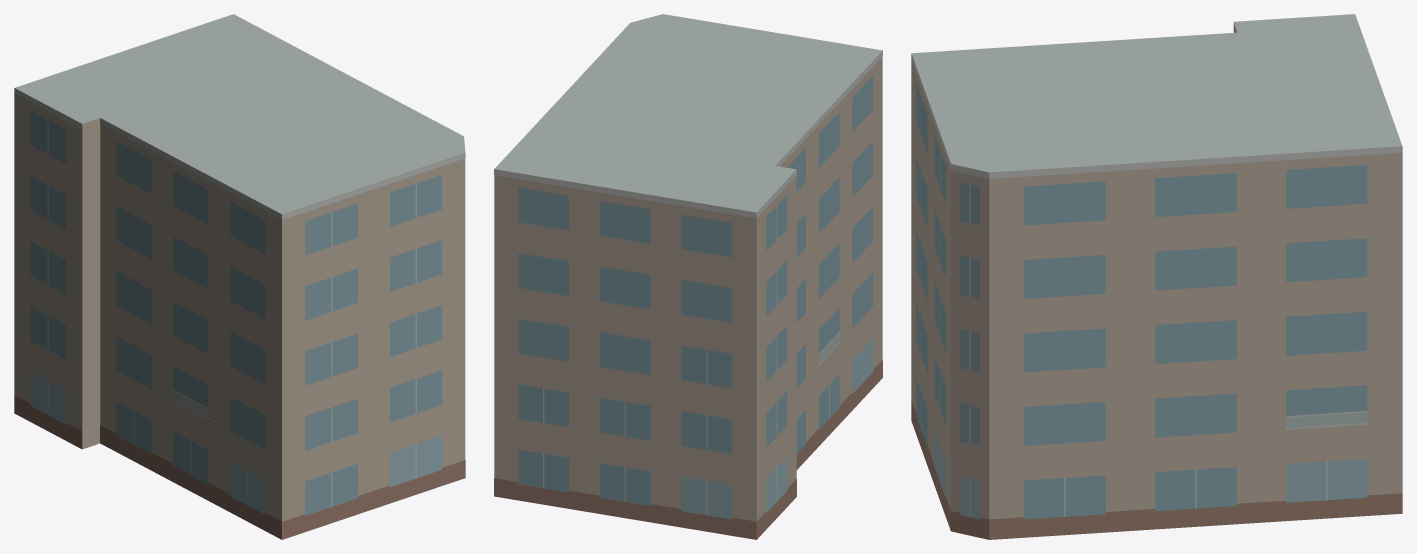
File: survey-upis-32760864.glb
3 views of the same model, side by side, from view 1: azimuth 30°, elevation 25°; view 2: azimuth 150°, elevation 25°; view 3: azimuth 270°, elevation 25° (orthographic). The views are drawn at different scales.
Visible parts, largest first — view 1: survey-upis-32760864.tmp; view 2: survey-upis-32760864.tmp; view 3: survey-upis-32760864.tmp.
Part boxes in pixels (bbox=[...]): survey-upis-32760864.tmp: bbox=[14, 14, 465, 539]; survey-upis-32760864.tmp: bbox=[494, 14, 882, 539]; survey-upis-32760864.tmp: bbox=[911, 14, 1402, 539].
Size of the model in its own units: 12.68 by 13.7 by 16.61.
